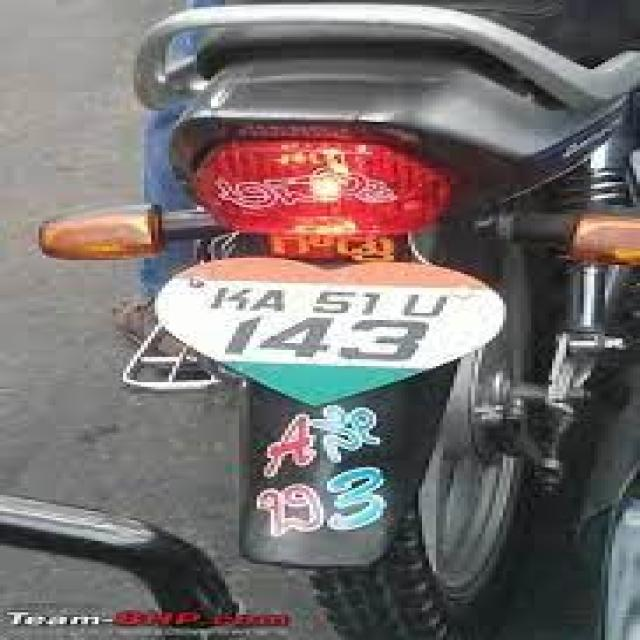license_plate: (148, 253, 506, 375)
